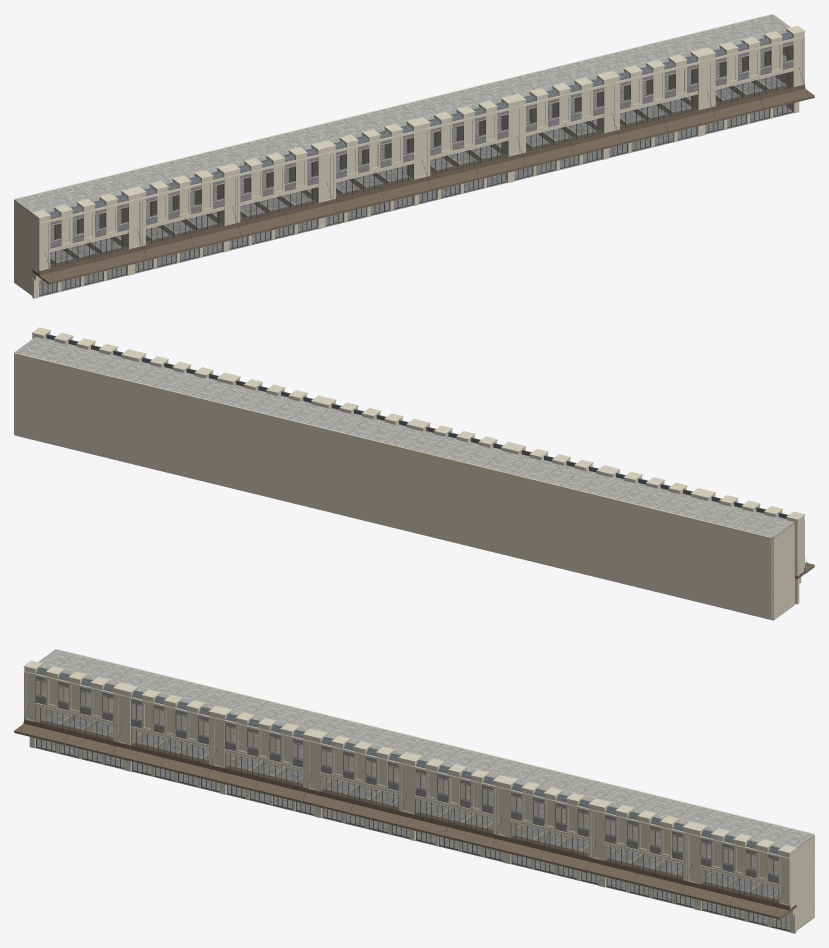
File: gzl_12.FBX
The picture shows the model from 3 angles, top to bottom: view 1: azimuth 30°, elevation 25°; view 2: azimuth 150°, elevation 25°; view 3: azimuth 330°, elevation 25°; orthographic projection.
Visible parts, largest first — view 1: Gzl_12_02, Gzl_12_01, Gzl_12_10, Gzl_12_07, Gzl_12_12, Gzl_12_11, Gzl_12_05, Gzl_12_09, Gzl_12_04, Gzl_12_03; view 2: Gzl_12_02, Gzl_12_01, Gzl_12_04; view 3: Gzl_12_02, Gzl_12_01, Gzl_12_10, Gzl_12_07, Gzl_12_12, Gzl_12_11, Gzl_12_05, Gzl_12_09, Gzl_12_04, Gzl_12_03.
Boxes of the visible parts, x1=… form: Gzl_12_02: x1=14, y1=14, x2=805, y2=298; Gzl_12_01: x1=14, y1=14, x2=793, y2=296; Gzl_12_10: x1=50, y1=45, x2=792, y2=267; Gzl_12_07: x1=39, y1=88, x2=814, y2=284; Gzl_12_12: x1=32, y1=84, x2=804, y2=276; Gzl_12_11: x1=50, y1=45, x2=793, y2=268; Gzl_12_05: x1=39, y1=104, x2=791, y2=294; Gzl_12_09: x1=50, y1=41, x2=793, y2=248; Gzl_12_04: x1=48, y1=32, x2=792, y2=219; Gzl_12_03: x1=39, y1=103, x2=792, y2=295; Gzl_12_02: x1=14, y1=327, x2=805, y2=619; Gzl_12_01: x1=14, y1=337, x2=794, y2=620; Gzl_12_04: x1=46, y1=334, x2=788, y2=518; Gzl_12_02: x1=23, y1=649, x2=814, y2=933; Gzl_12_01: x1=35, y1=649, x2=814, y2=931; Gzl_12_10: x1=36, y1=680, x2=778, y2=902; Gzl_12_07: x1=14, y1=723, x2=789, y2=919; Gzl_12_12: x1=24, y1=719, x2=796, y2=911; Gzl_12_11: x1=35, y1=680, x2=778, y2=903; Gzl_12_05: x1=37, y1=739, x2=789, y2=929; Gzl_12_09: x1=35, y1=676, x2=778, y2=883; Gzl_12_04: x1=36, y1=667, x2=780, y2=854; Gzl_12_03: x1=36, y1=738, x2=789, y2=930.
Bounding box in the file's own units: 118727 × 12784 × 10443.
